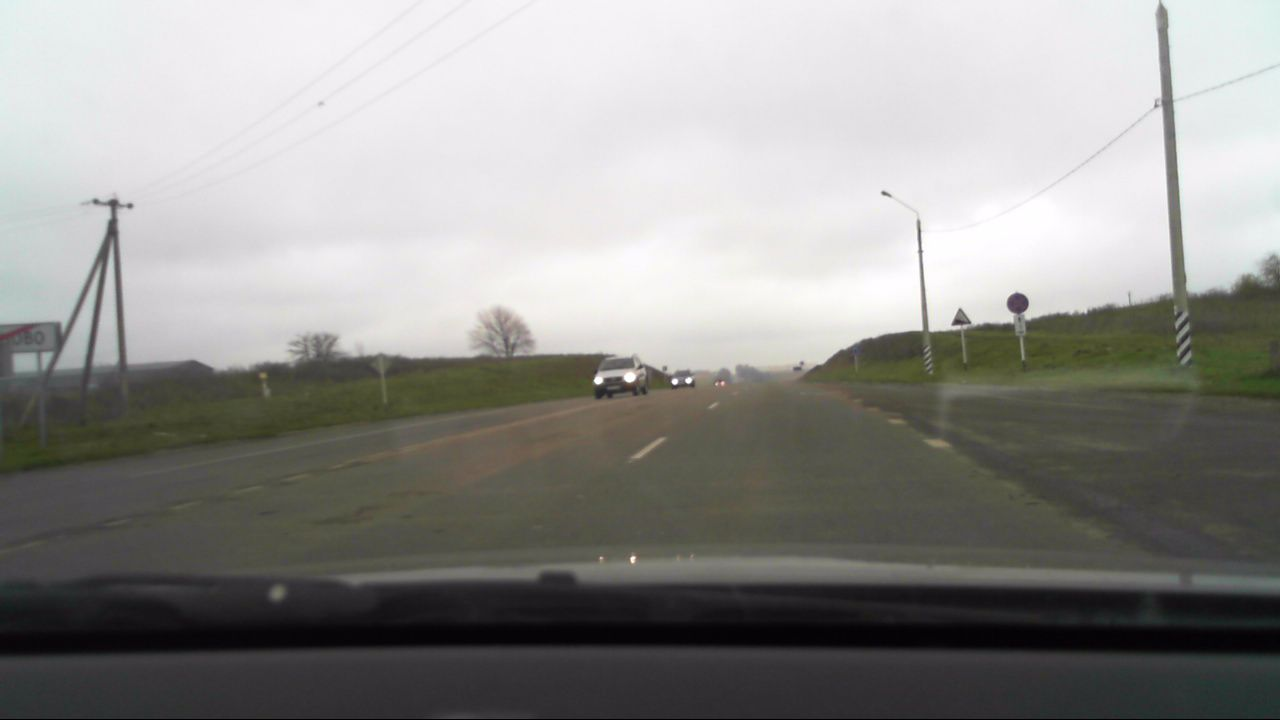No Parking: (1003, 293, 1027, 314)
